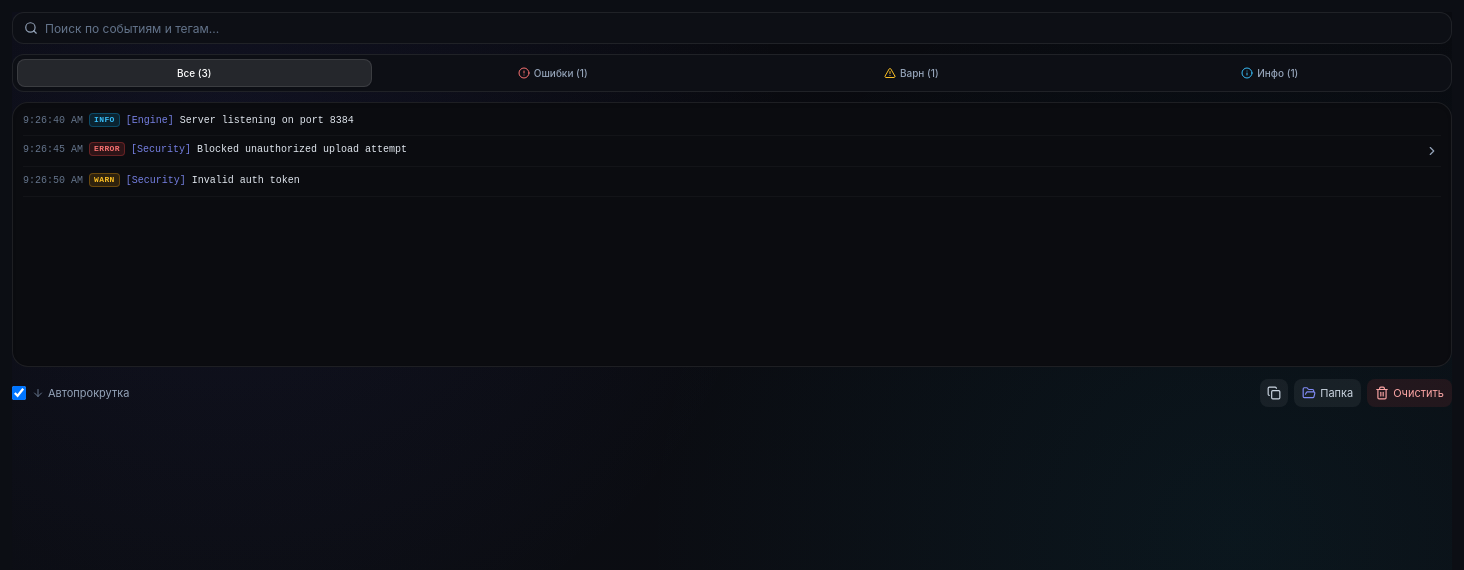
Test: LogsSection › filters logs by level
Check: the text "Server listening on port 8384" is shown, box left=180, top=115, right=354, bottom=126
Click 'Ошибки' filter
Click the button "Ошибки (1)".
click(553, 73)  # box left=376, top=59, right=730, bottom=87
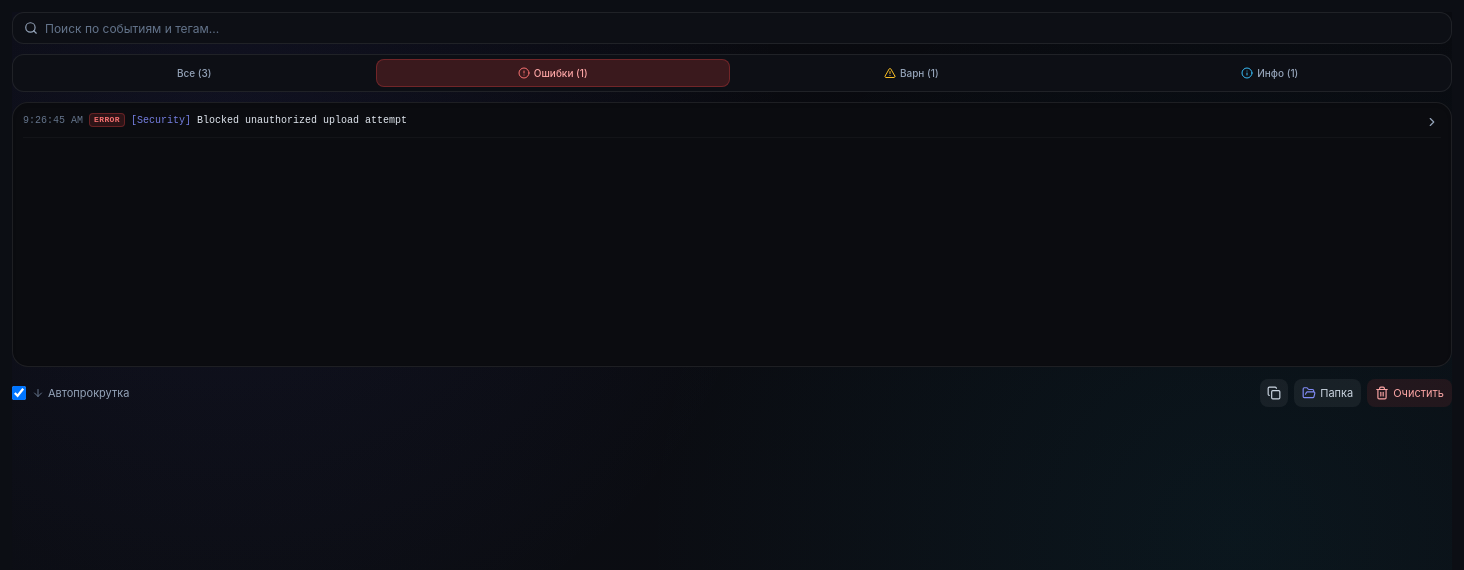
Check: the text "Blocked unauthorized upload attempt" is shown, box left=197, top=115, right=407, bottom=126
Check: the text "Server listening on port 8384" is gone
